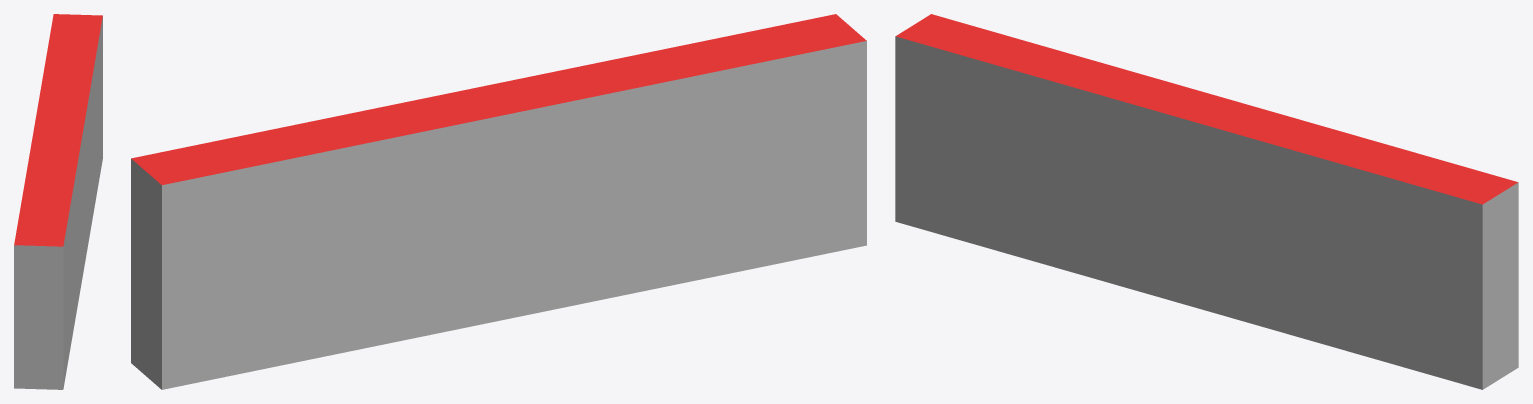
Rendered from ID_33bfb256-ff02-4740-aecc-7dd86192a22f.dae.
3 views of the same model, side by side, from view 1: azimuth 30°, elevation 25°; view 2: azimuth 150°, elevation 25°; view 3: azimuth 270°, elevation 25° (orthographic). The views are drawn at different scales.
Size of the model in its own units: 35.28 by 48.74 by 16.
